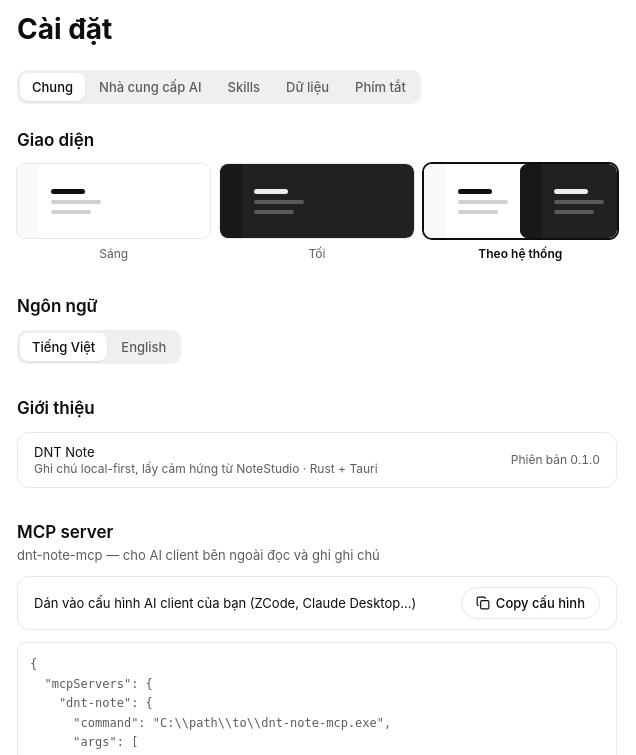
Test: SettingsPage tabs › shows only the active tab's sections
Expected: the heading "Giao diện" is shown, [17,130,94,150]
Expected: the heading "Giới thiệu" is shown, [17,398,95,418]
Click the tab "Nhà cung cấp AI". click: [150, 87]
box: [87,73,214,101]
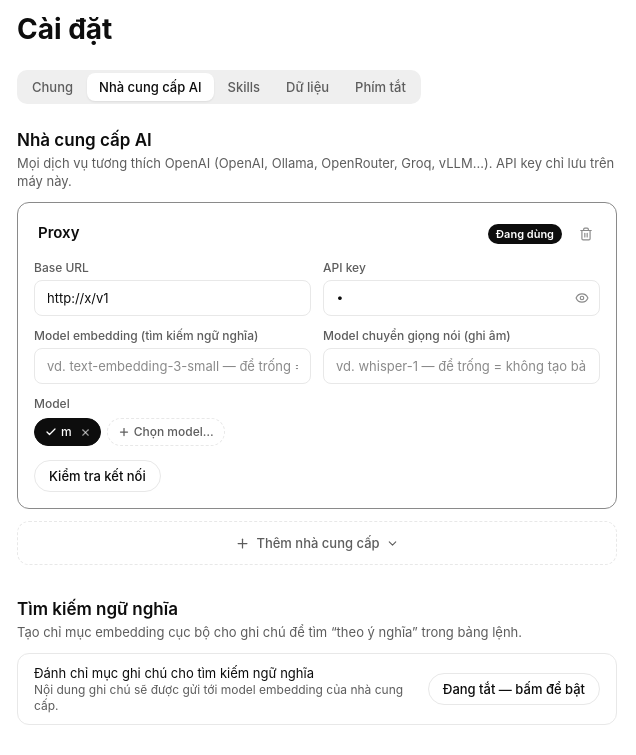
Now the field named "Tên nhà cung cấp" is shown, box [34,219,478,248]
Now the heading "Giao diện" is gone
Click the tab "Dữ liệu". click: [308, 87]
box: [274,73,341,101]
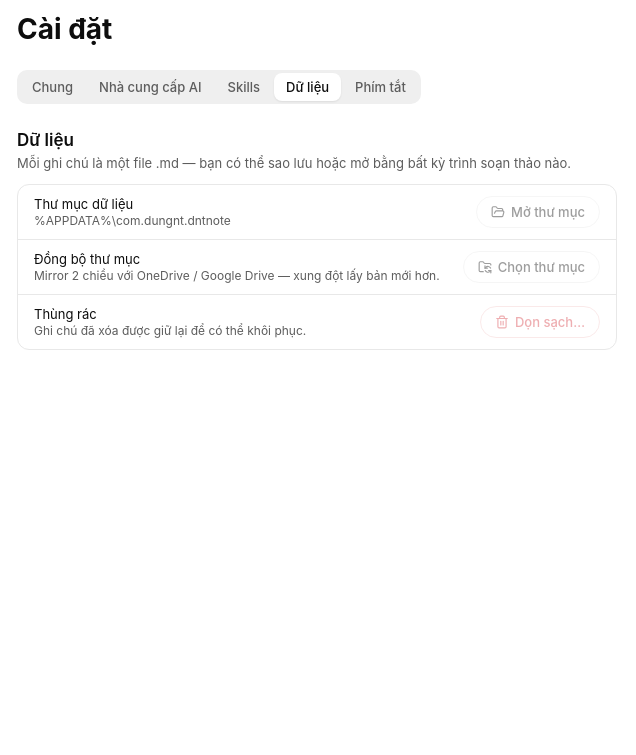
Now the button "Mở thư mục" is shown, box [476,196,600,228]
Click the tab "Phím tắt". click: [380, 87]
box: [343,73,418,101]
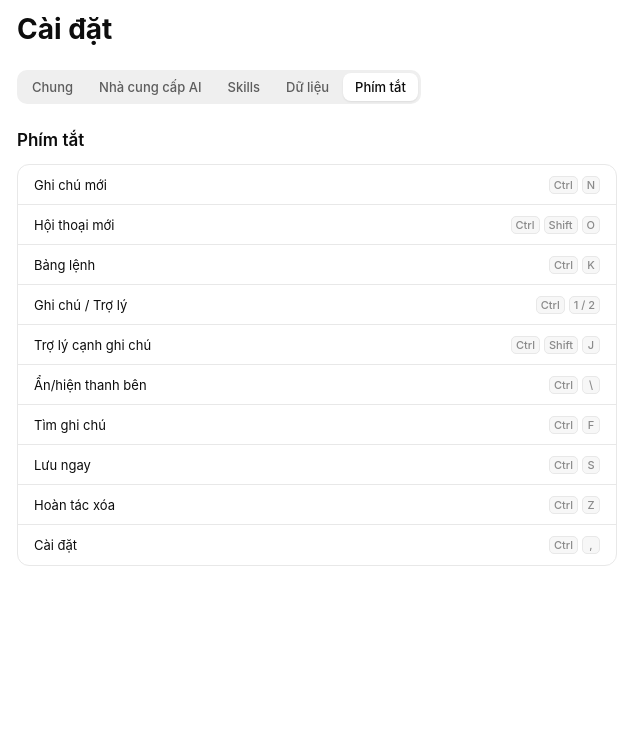
Expected: the heading "Giới thiệu" is not shown
Now the text "Hoàn tác xóa" is shown, box [34,496,115,512]
